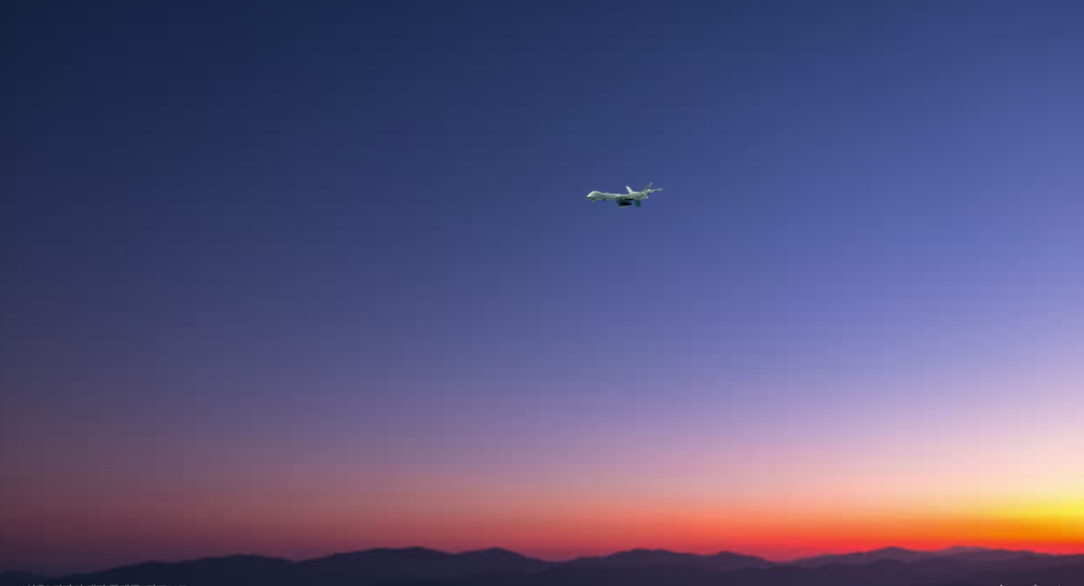military drone: (585, 182, 664, 207)
